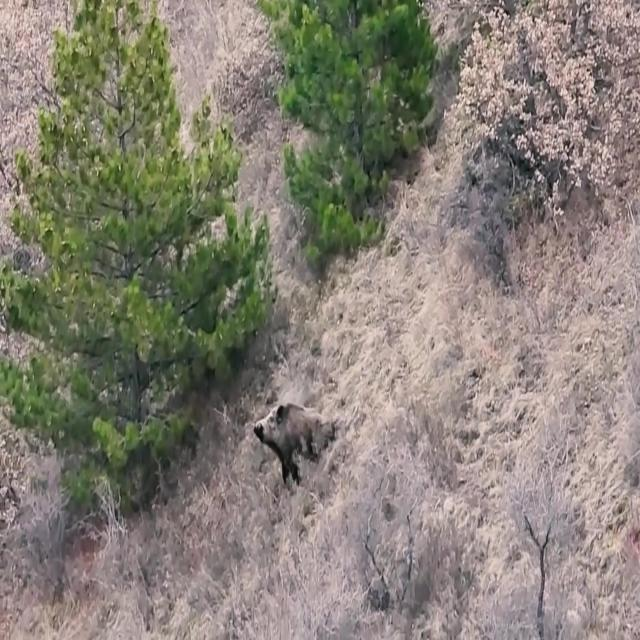pig: (248, 386, 368, 487)
